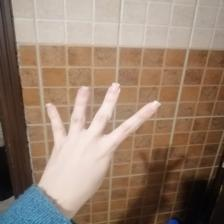four: (43, 79, 163, 199)
